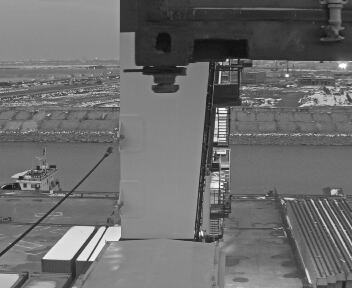twist_lock_1: (134, 58, 191, 102)
